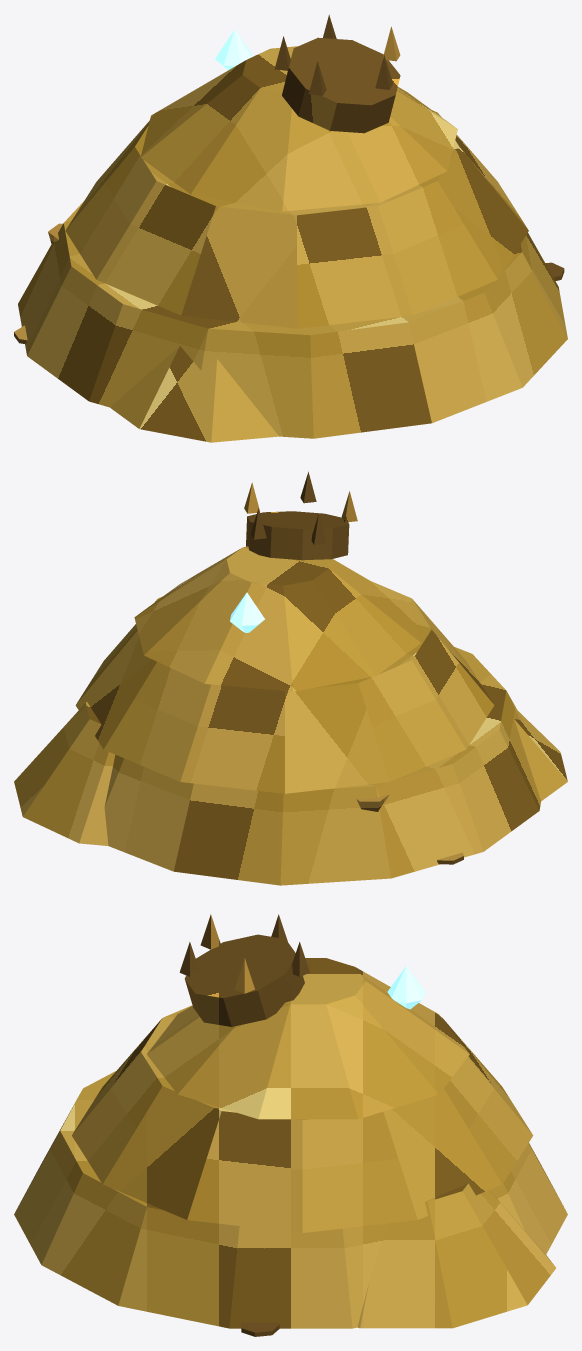
Rendered from gold_hoard.glb.
3 views of the same model, one above another, from view 1: azimuth 30°, elevation 25°; view 2: azimuth 150°, elevation 25°; view 3: azimuth 270°, elevation 25° (orthographic). The views are drawn at different scales.
Parts seen in each view (by area): view 1: body; view 2: body; view 3: body.
Boxes of the visible parts, x1,y1,x2,y2 form: body: (14, 14, 567, 442); body: (14, 471, 567, 885); body: (14, 914, 567, 1336).
Bounding box in the file's own units: 0.9726 × 0.56 × 0.96.
Materials: 6 (2 with a texture image).
